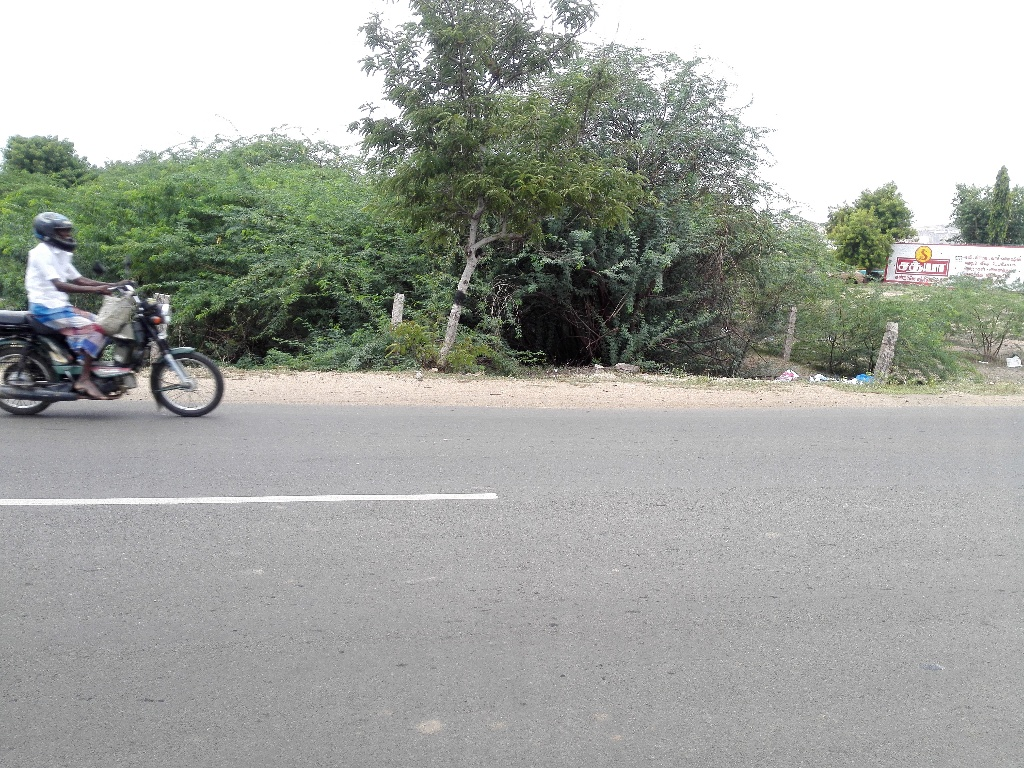biker: (1, 176, 237, 431)
helmet: (26, 196, 90, 260)
